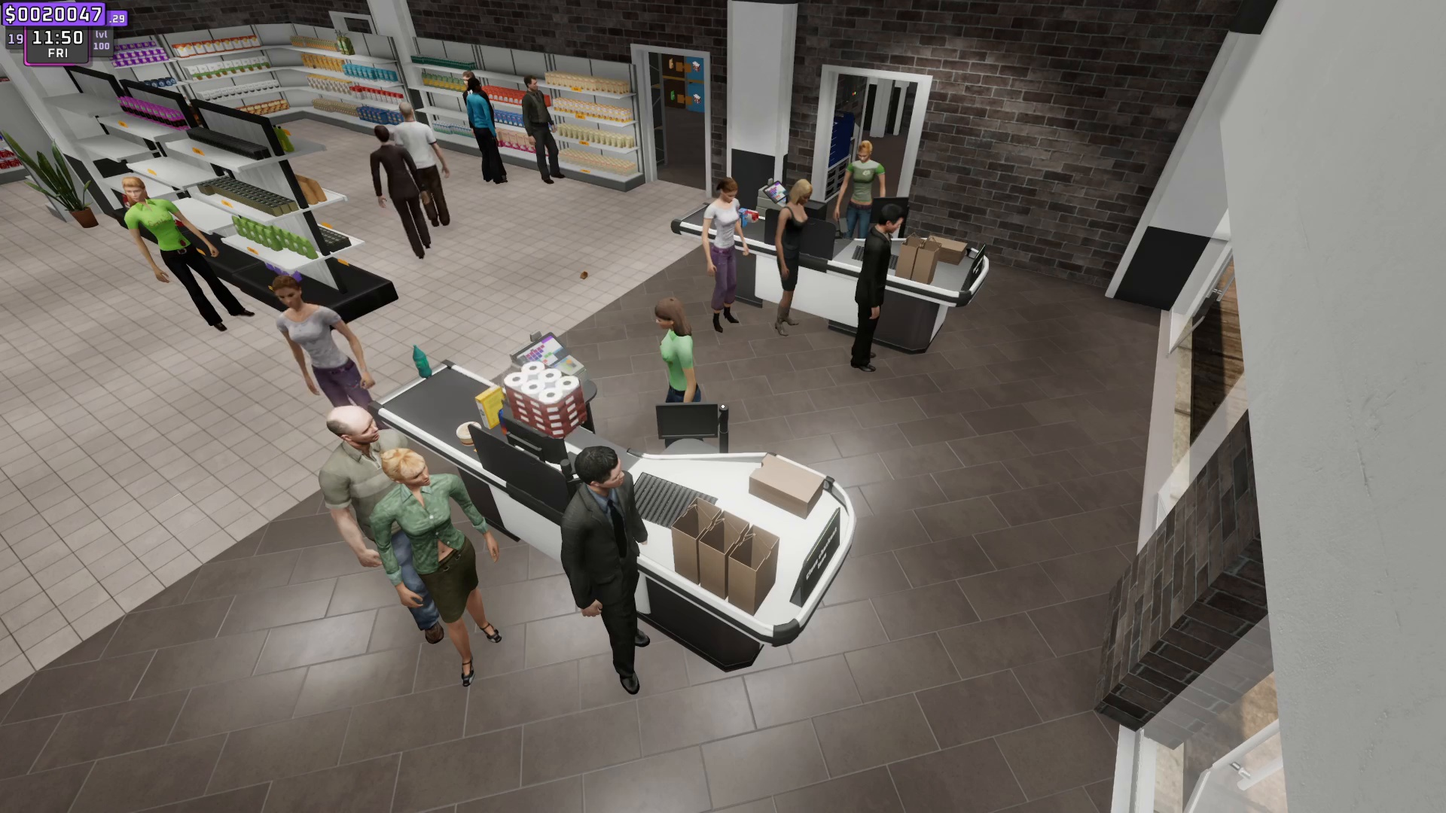Client: (382, 448, 509, 689), (323, 407, 458, 629), (542, 456, 671, 685), (275, 286, 385, 420), (773, 175, 820, 348), (859, 204, 907, 372), (692, 168, 744, 322)
Employee: (652, 304, 705, 401), (836, 139, 893, 228)
